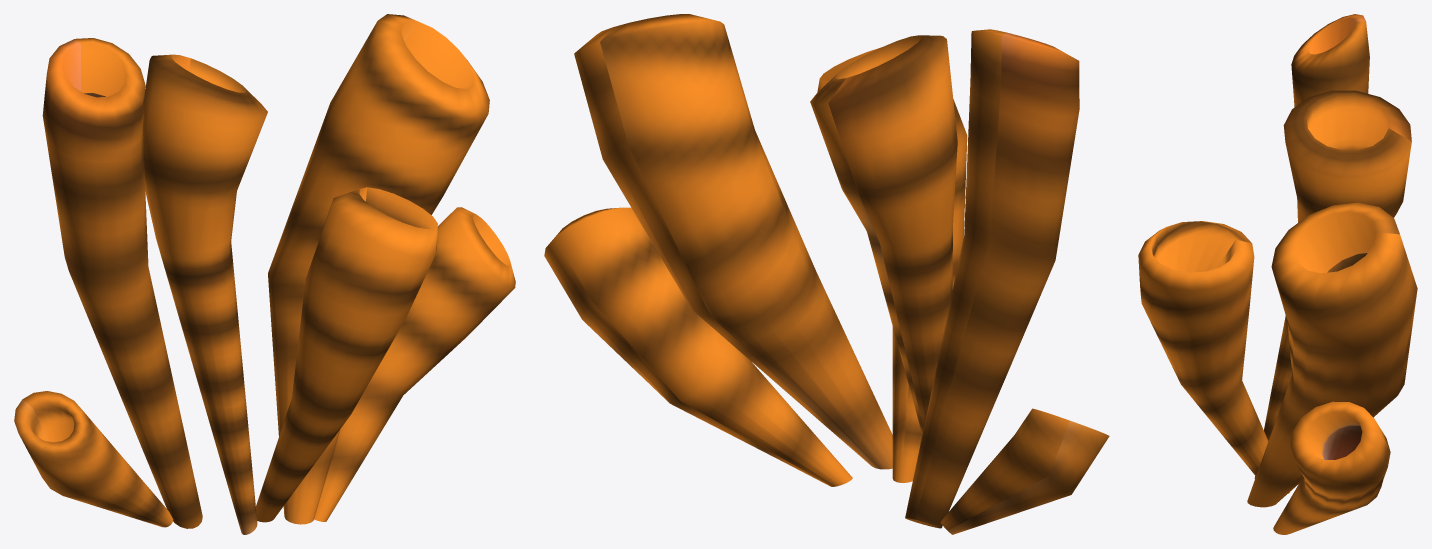
The model's file is plant_orange.fbx.
3 views of the same model, side by side, from view 1: azimuth 30°, elevation 25°; view 2: azimuth 150°, elevation 25°; view 3: azimuth 270°, elevation 25° (orthographic). The views are drawn at different scales.
Visible parts, largest first — view 1: plant_orange; view 2: plant_orange; view 3: plant_orange.
Boxes of the visible parts, bbox=[...] form: plant_orange: bbox=[14, 14, 515, 534]; plant_orange: bbox=[544, 14, 1109, 534]; plant_orange: bbox=[1138, 14, 1417, 534].
Size of the model in its own units: 25.35 by 24.06 by 14.22.
